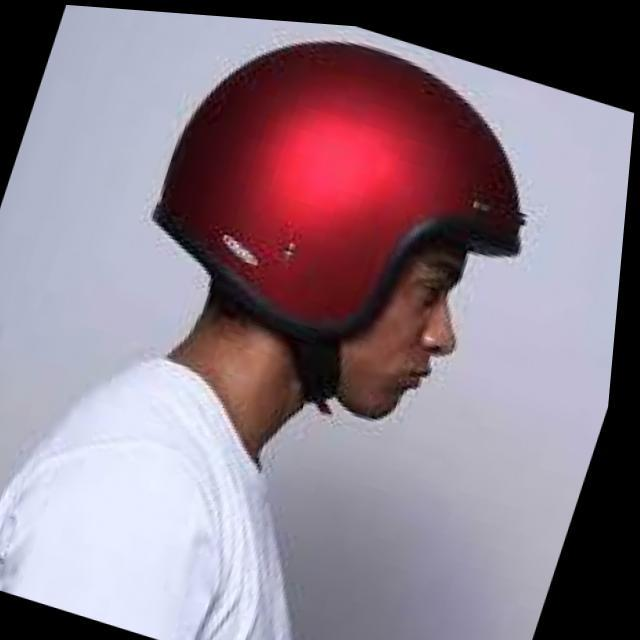Helmet: (148, 38, 528, 432)
